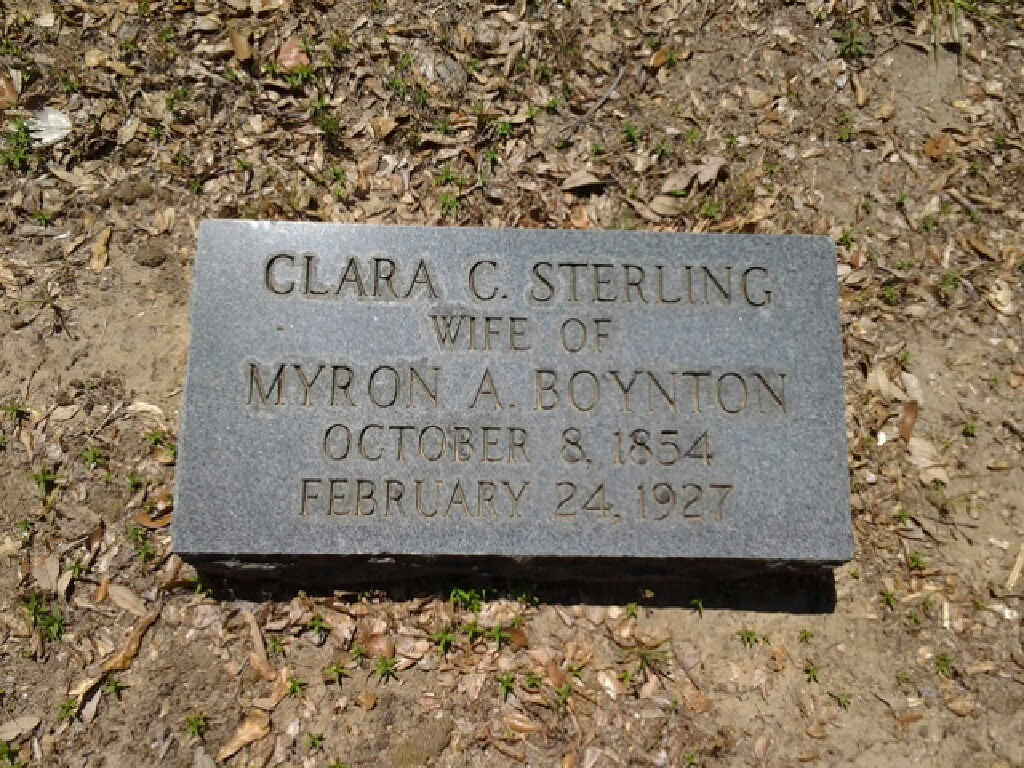flat: (165, 217, 855, 579)
